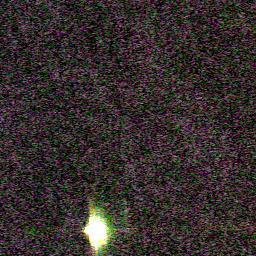Ship: (80, 199, 115, 250)
